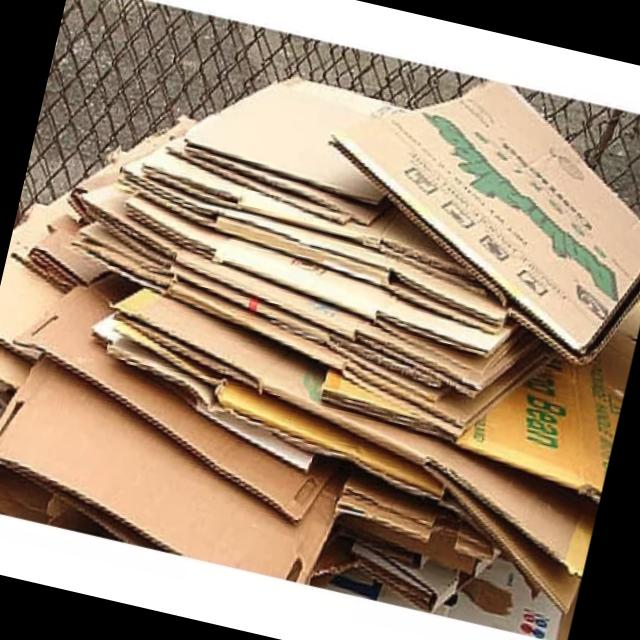Kardus: (0, 0, 640, 640), (290, 46, 640, 377), (389, 105, 640, 303)
